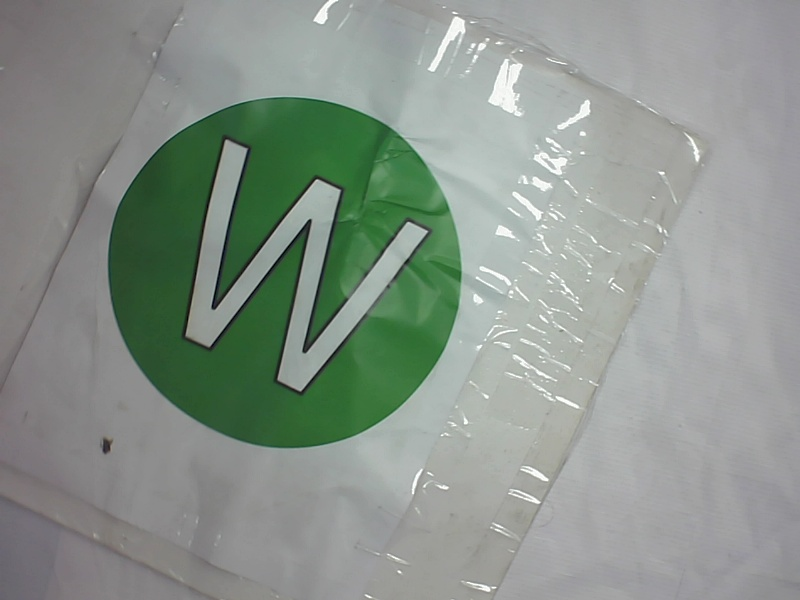areaB: (87, 97, 474, 458)
